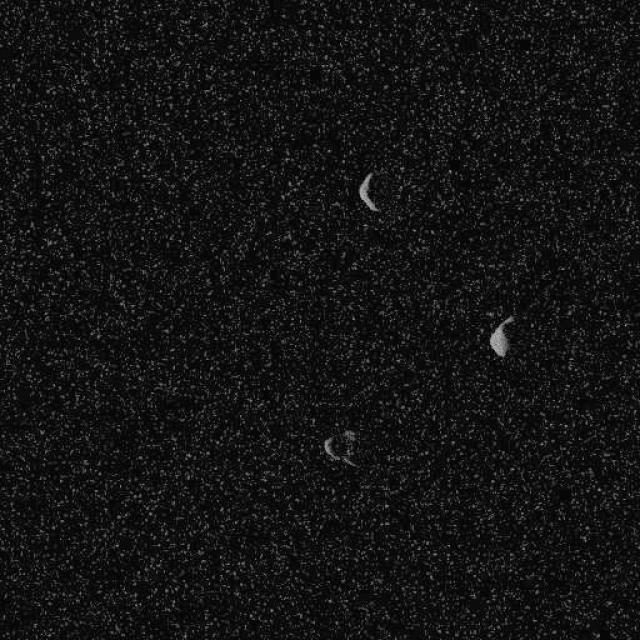D2: (321, 429, 360, 469), (487, 314, 515, 358), (356, 170, 380, 212)
